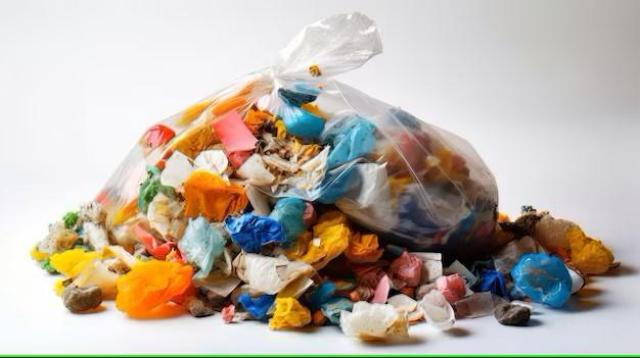Garbage: (30, 13, 619, 343)
Plastic_Bag: (95, 13, 497, 252), (511, 254, 573, 307), (177, 216, 226, 278)
